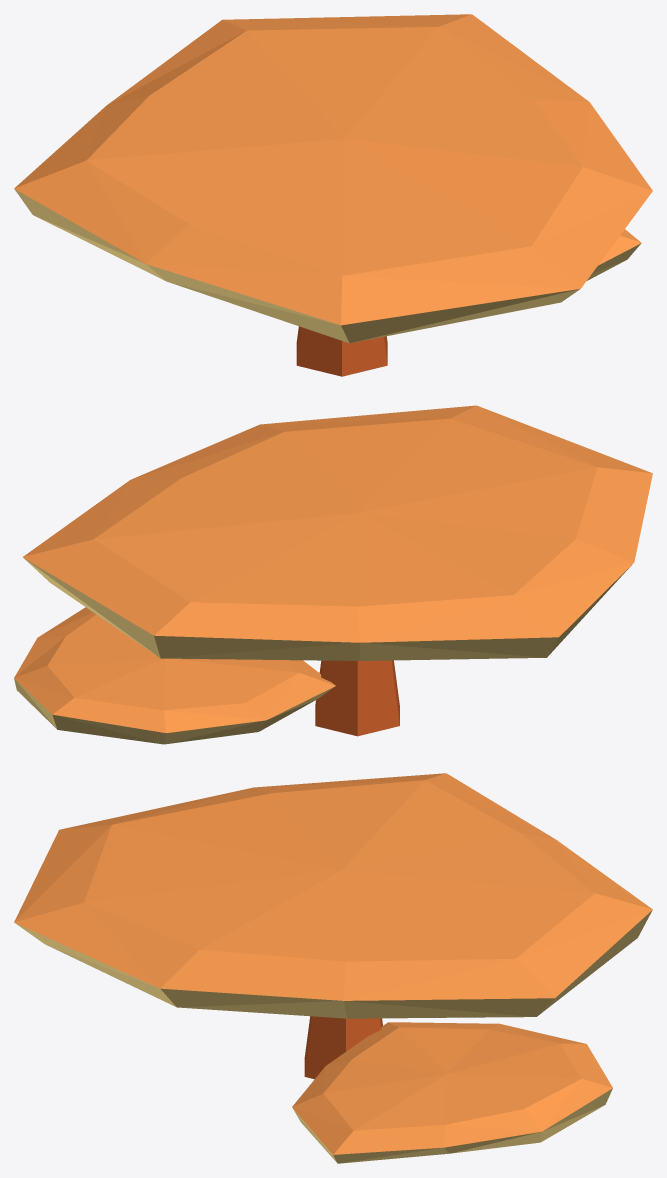
File: coral_table_orange.fbx
3 renders of one model, top to bottom at view 1: azimuth 30°, elevation 25°; view 2: azimuth 150°, elevation 25°; view 3: azimuth 270°, elevation 25°, orthographic. The views are drawn at different scales.
Visible parts, largest first — view 1: coral_table_orange; view 2: coral_table_orange; view 3: coral_table_orange.
Boxes of the visible parts, x1=… form: coral_table_orange: x1=14, y1=14, x2=652, y2=376; coral_table_orange: x1=14, y1=405, x2=652, y2=744; coral_table_orange: x1=14, y1=773, x2=652, y2=1163.
Size of the model in its own units: 1116 by 410 by 1209.
Materials: 1 (1 with a texture image).
